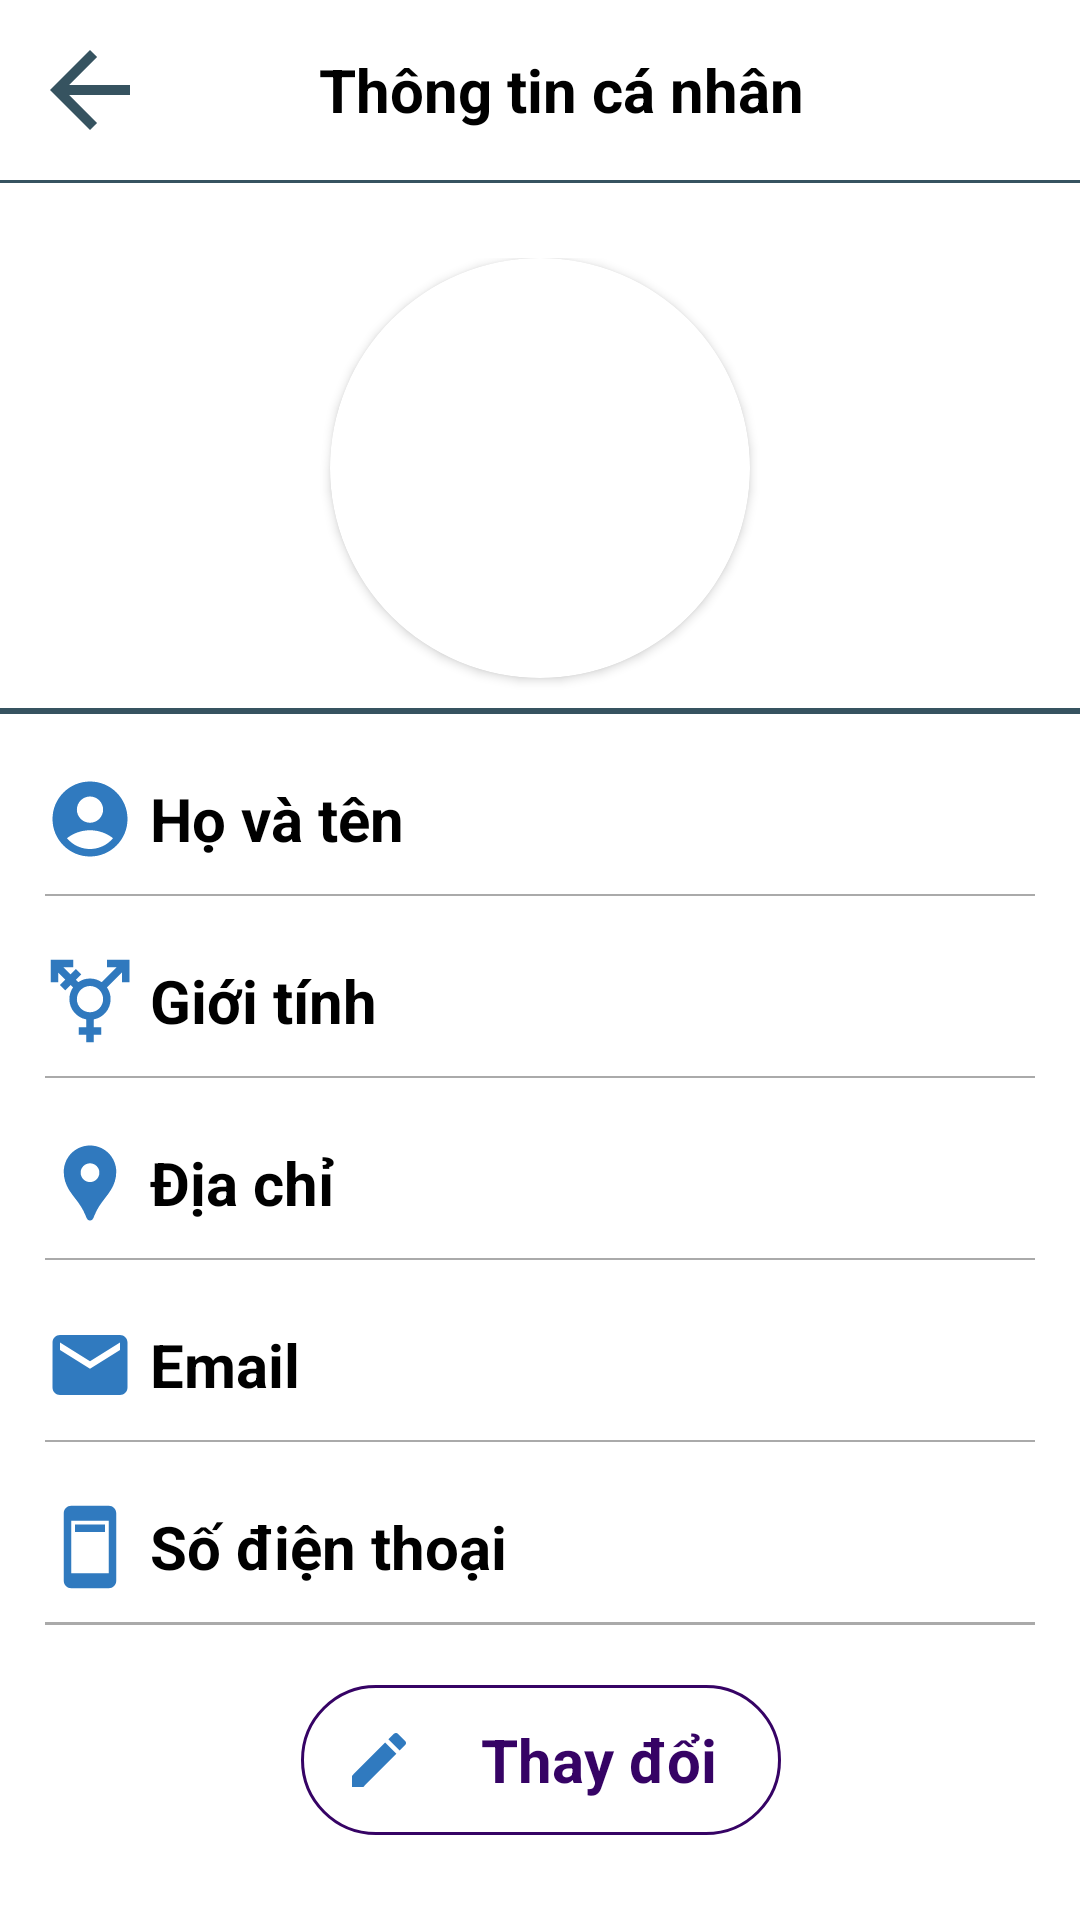

Icons on this 1080 × 1920 Android screen, each with its box as (x1=x1, y1=y1, x2=x2, y2=y2):
arrow back: (x1=50, y1=50, x2=130, y2=130)
gender: (x1=50, y1=959, x2=130, y2=1043)
location pin: (x1=63, y1=1145, x2=117, y2=1221)
person: (x1=52, y1=781, x2=128, y2=857)
phone: (x1=63, y1=1505, x2=117, y2=1589)
